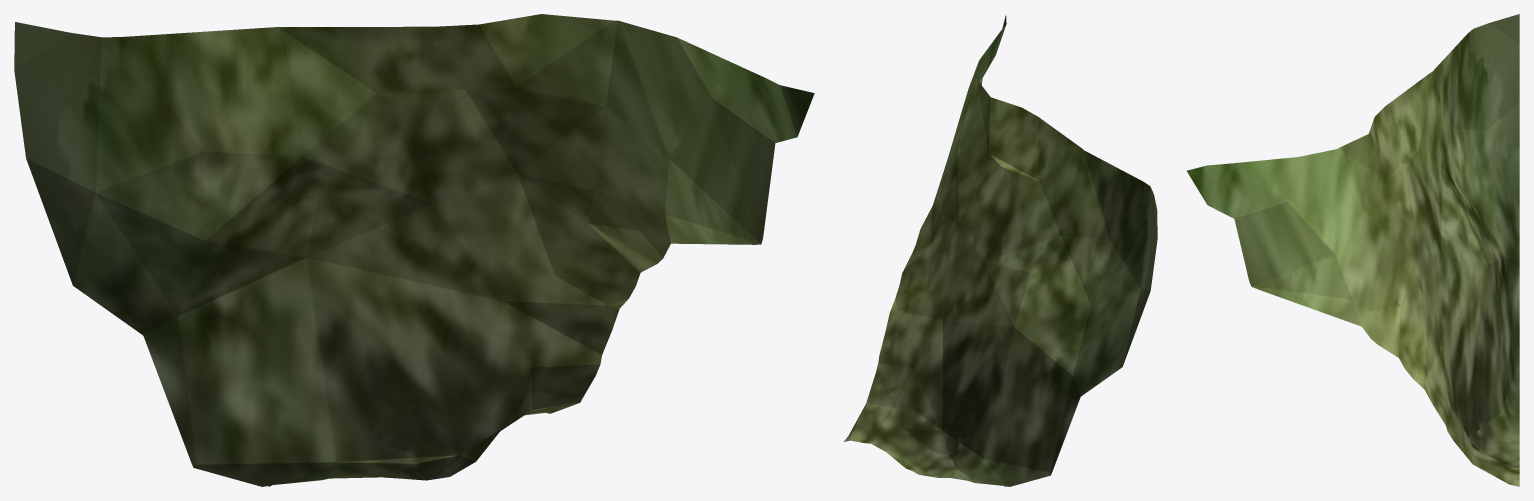
3 renders of one model, left to right at view 1: azimuth 30°, elevation 25°; view 2: azimuth 150°, elevation 25°; view 3: azimuth 270°, elevation 25°, orthographic. The views are drawn at different scales.
Bounding box in the file's own units: 1.6 × 1.57 × 1.44.
1 material, 1 textured.
